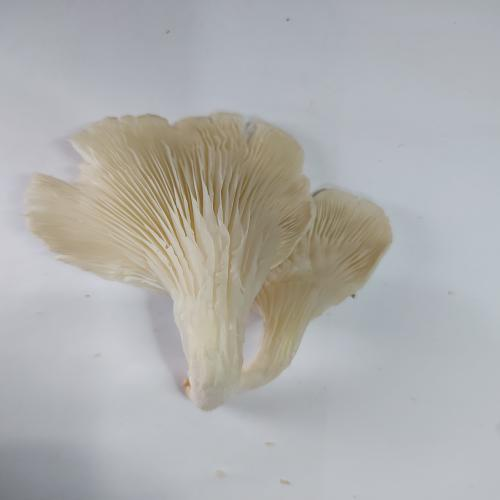Oyster Mushroom: (23, 111, 394, 411)
